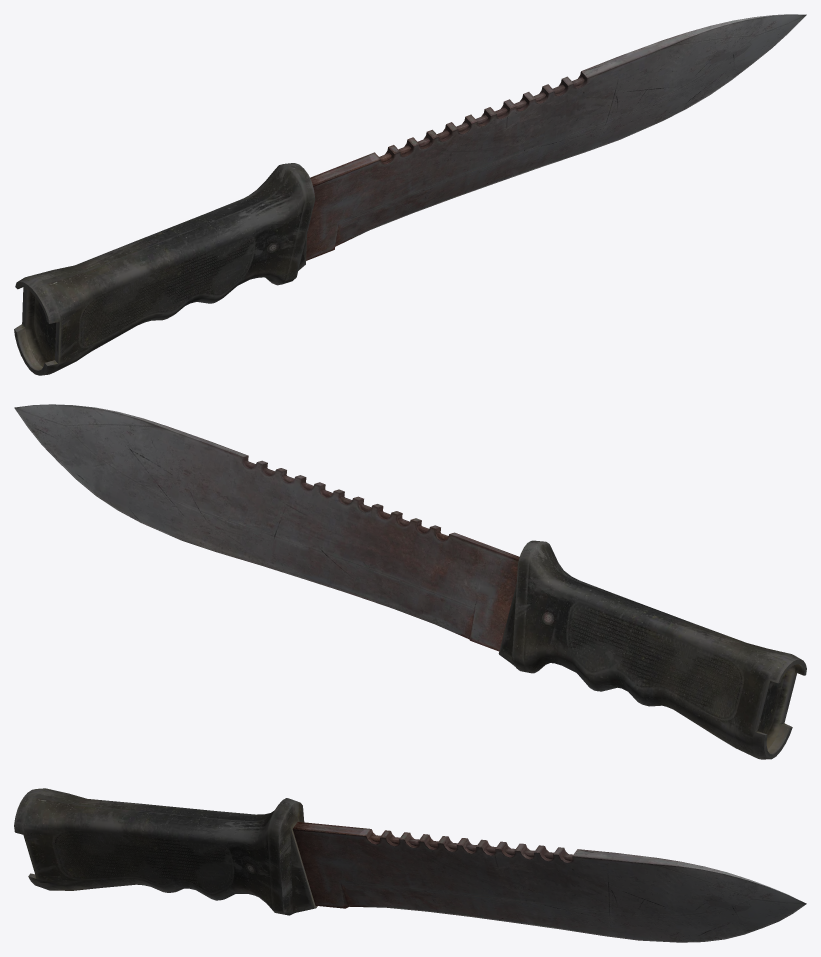
File: sf-knife-42496f36.glb
3 views of the same model, one above another, from view 1: azimuth 30°, elevation 25°; view 2: azimuth 150°, elevation 25°; view 3: azimuth 330°, elevation 25° (orthographic).
Visible parts, largest first — view 1: knife; view 2: knife; view 3: knife.
Part boxes in pixels (x1=…): knife: x1=14, y1=14, x2=806, y2=375; knife: x1=14, y1=404, x2=806, y2=759; knife: x1=14, y1=788, x2=806, y2=942.
Bounding box in the file's own units: 1.43 × 0.3242 × 0.1328.
1 material, 1 textured.
